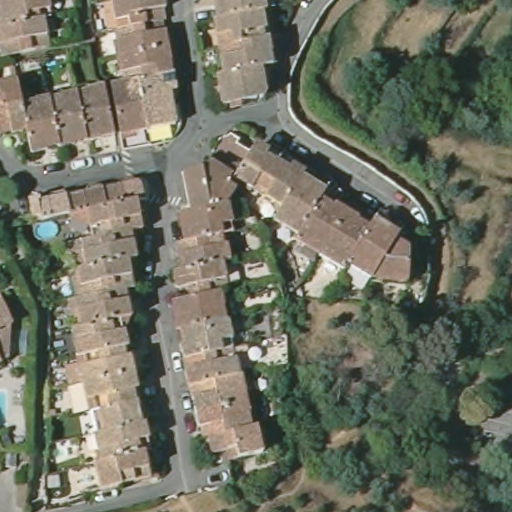pool: (32, 220, 62, 242), (1, 383, 12, 426)
